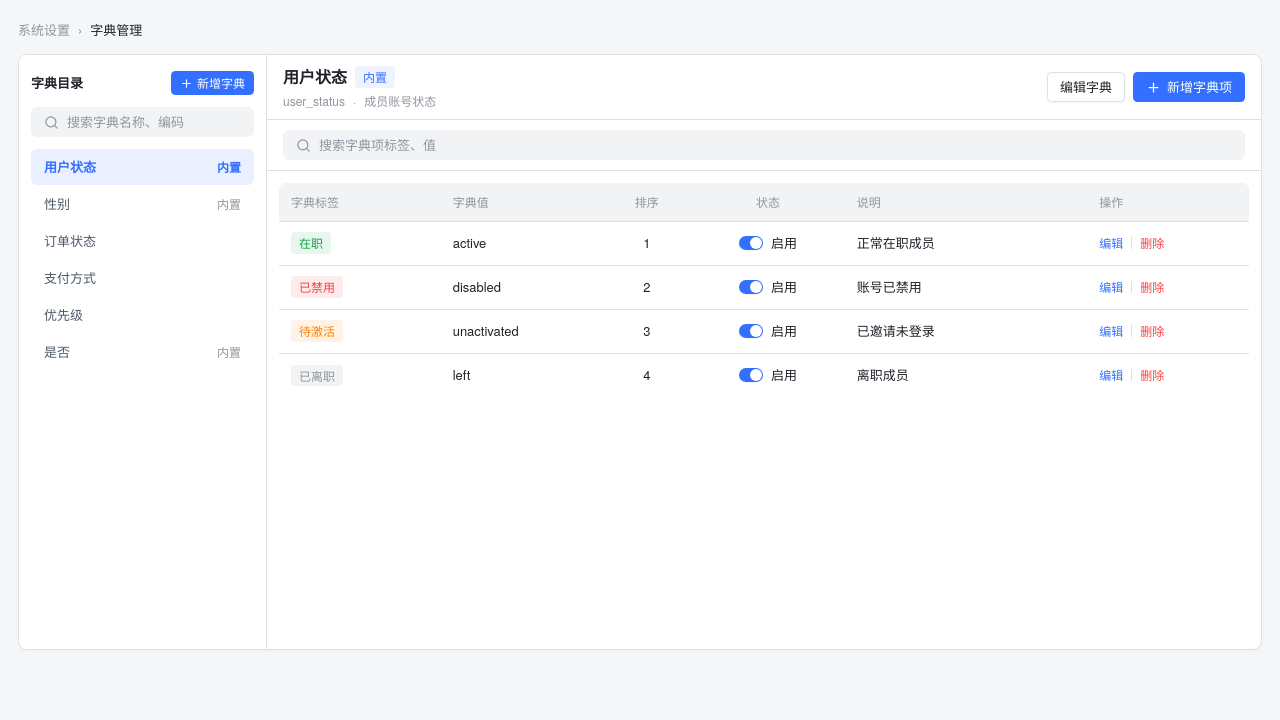
Test: 字典页展示目录与当前字典项并支持切换目录
Check: the button "用户状态 内置" is shown, box left=31, top=149, right=254, bottom=185
Check: the text "在职" is shown, box left=291, top=232, right=331, bottom=254
Click the button "性别 内置". click: (142, 204)
box: left=31, top=186, right=254, bottom=222
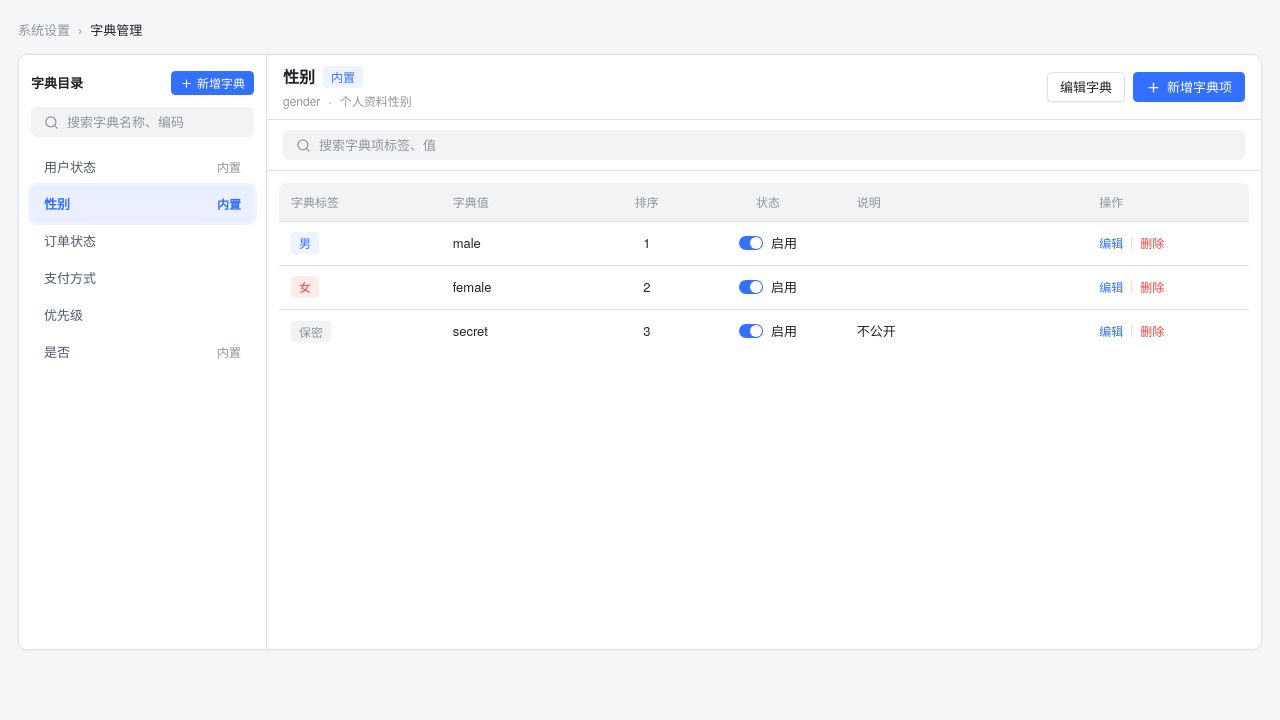
Check: the text "男" is shown, box left=291, top=232, right=319, bottom=254
Check: the text "保密" is shown, box left=291, top=321, right=331, bottom=342
Check: the text "在职" is gone
